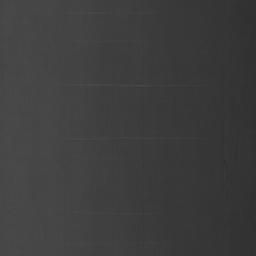Waist folding: (62, 82, 199, 88), (64, 137, 200, 143), (73, 211, 150, 217), (73, 40, 137, 47), (64, 11, 117, 16)
